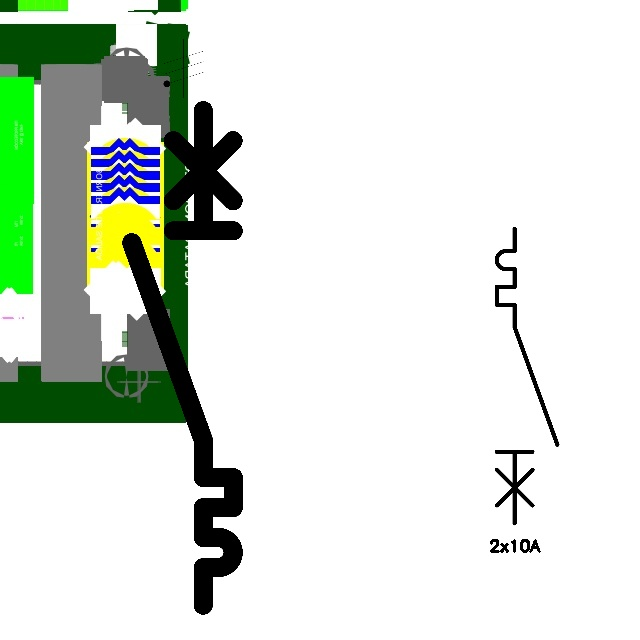interruptor_termomagnetico: (119, 97, 246, 617), (489, 221, 565, 531)
